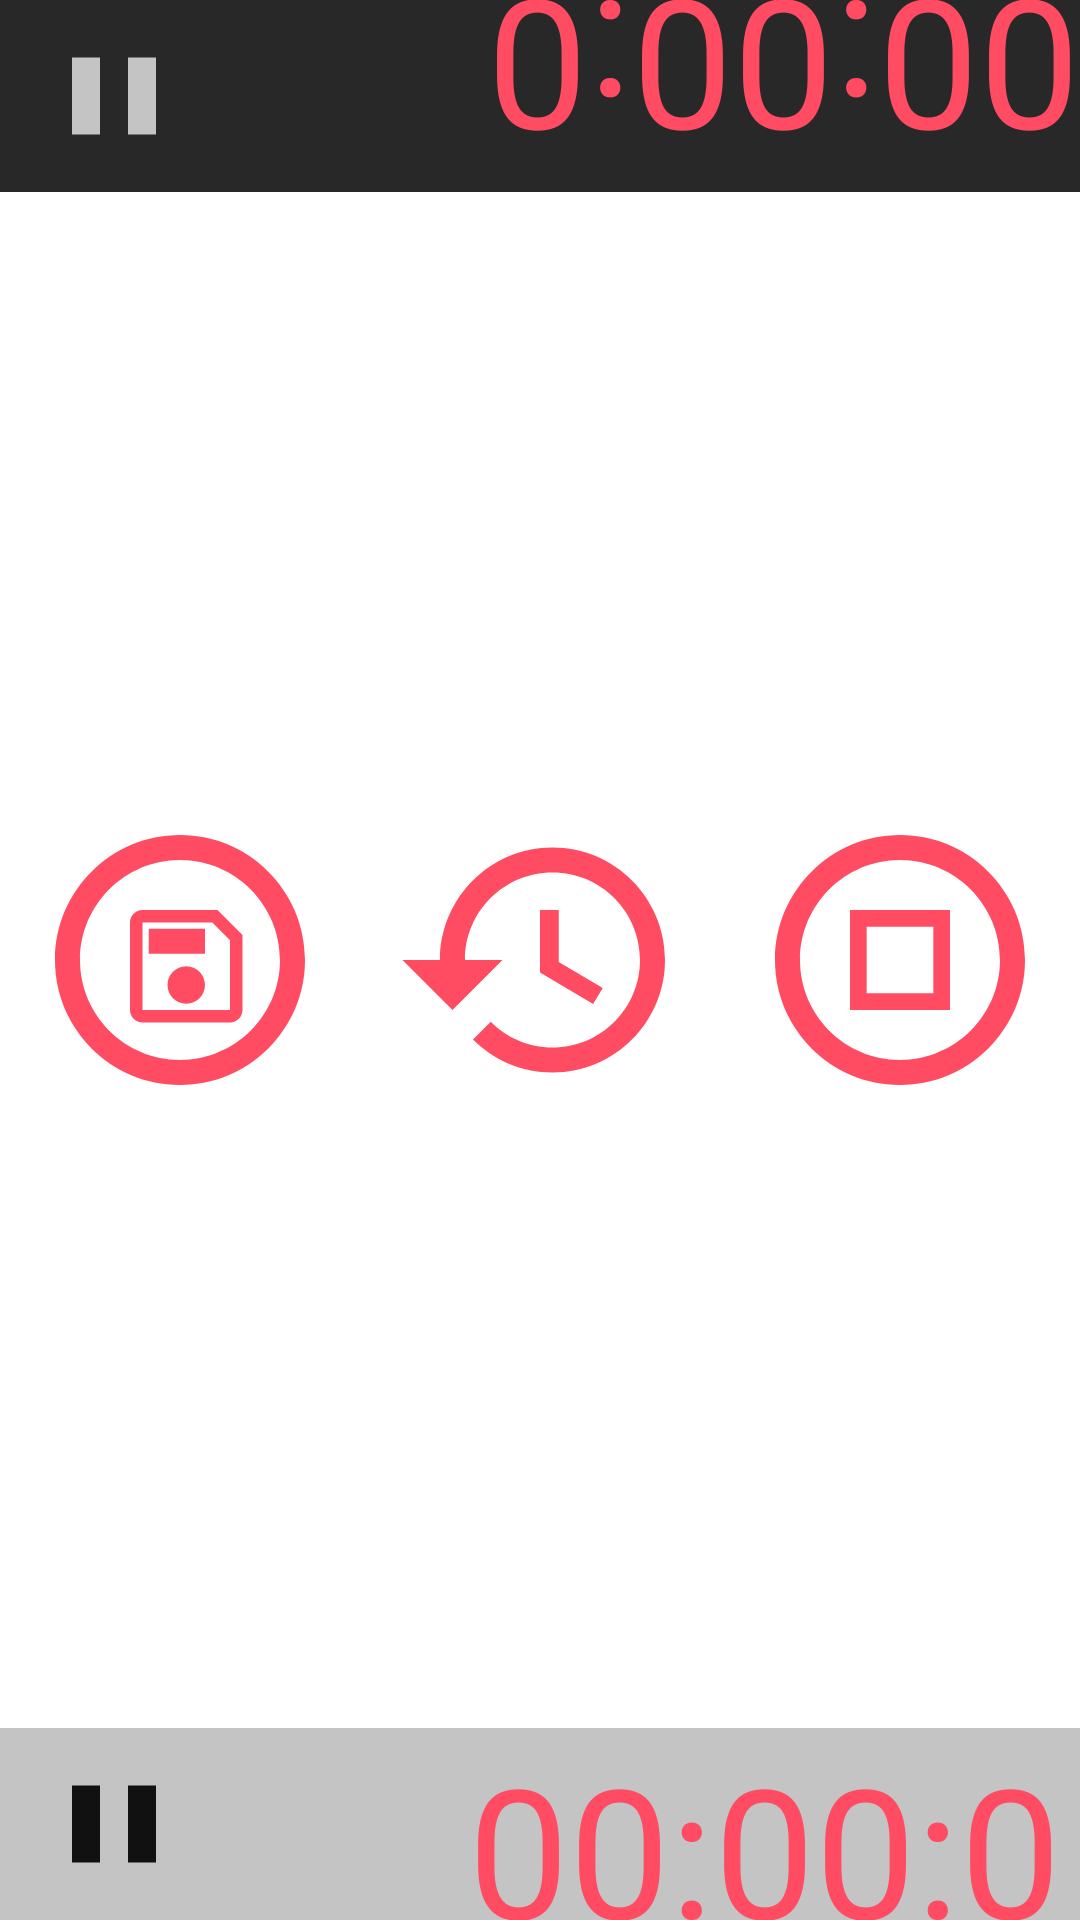

Where to tap for icons on this 1080w x 1920h app screen, as (x=x, y=y):
pause game: (x=114, y=96), (x=114, y=1824)
reset game: (x=534, y=960)
save game: (x=180, y=960)
stop game: (x=900, y=960)
